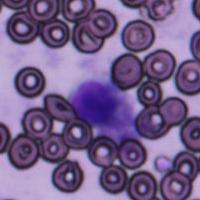D: (68, 77, 134, 132)
